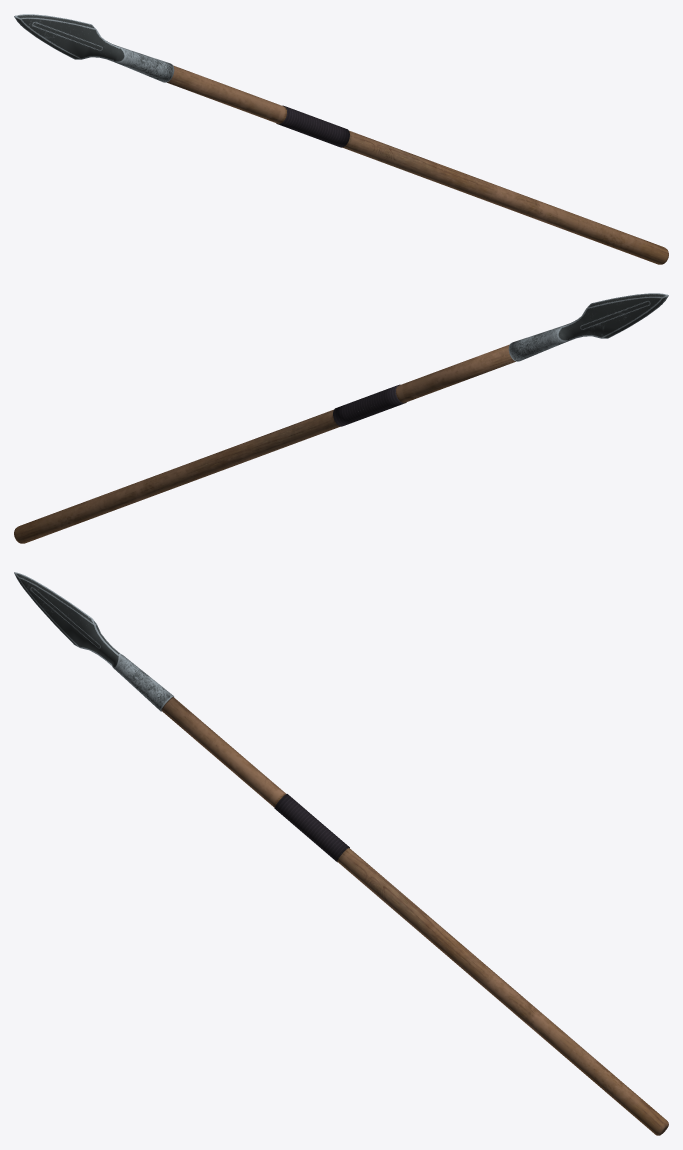
File: spear_level2.glb
3 views of the same model, one above another, from view 1: azimuth 30°, elevation 25°; view 2: azimuth 150°, elevation 25°; view 3: azimuth 330°, elevation 25° (orthographic).
Visible parts, largest first — view 1: Object_2; view 2: Object_2; view 3: Object_2.
Part boxes in pixels (<box>): Object_2: <box>14,14,668,264</box>; Object_2: <box>14,293,668,543</box>; Object_2: <box>14,572,668,1135</box>.
Size of the model in its own units: 198 by 118 by 5.25.
Materials: 1 (1 with a texture image).
